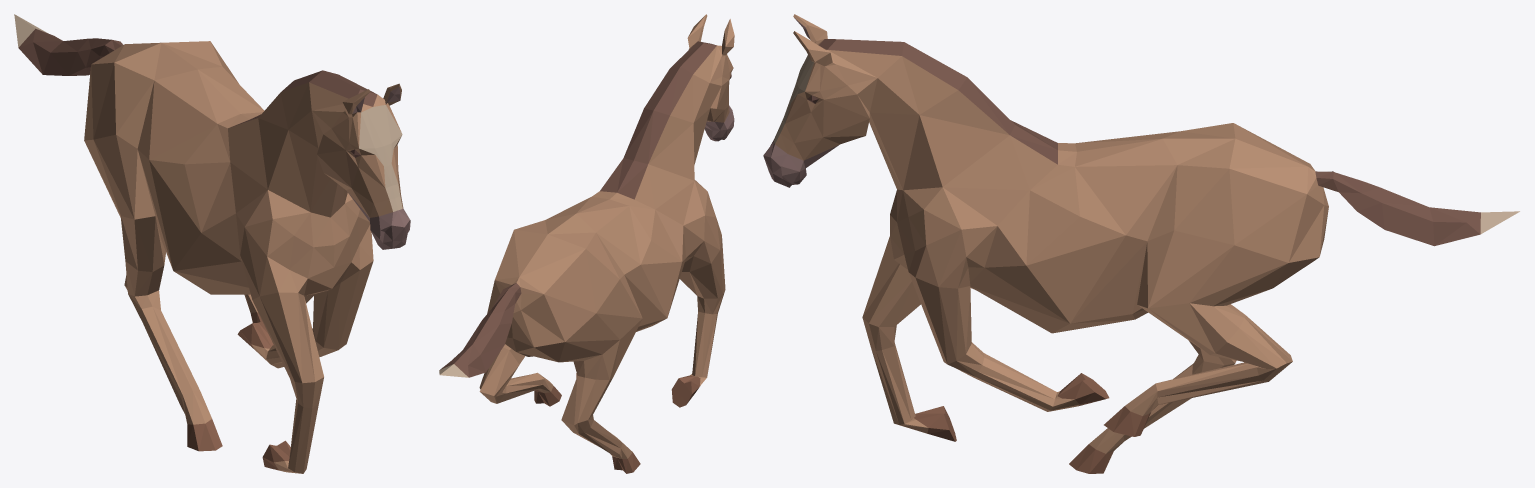
Rendered from Horse.glb.
The picture shows the model from 3 angles, left to right: view 1: azimuth 30°, elevation 25°; view 2: azimuth 150°, elevation 25°; view 3: azimuth 270°, elevation 25°; orthographic projection. The views are drawn at different scales.
Visible parts, largest first — view 1: mesh_0; view 2: mesh_0; view 3: mesh_0.
Part boxes in pixels (bbox=[...]): mesh_0: bbox=[14, 14, 410, 473]; mesh_0: bbox=[439, 14, 734, 473]; mesh_0: bbox=[763, 14, 1519, 473].
Size of the model in its own units: 65.75 by 187 by 277.
